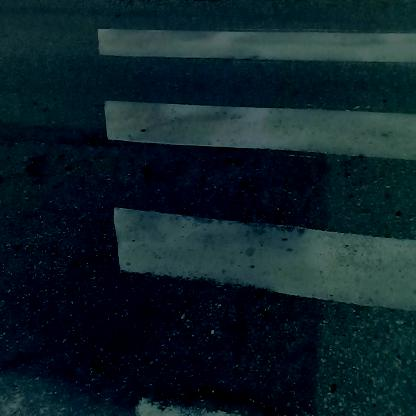crosswalk: (108, 20, 416, 406)
